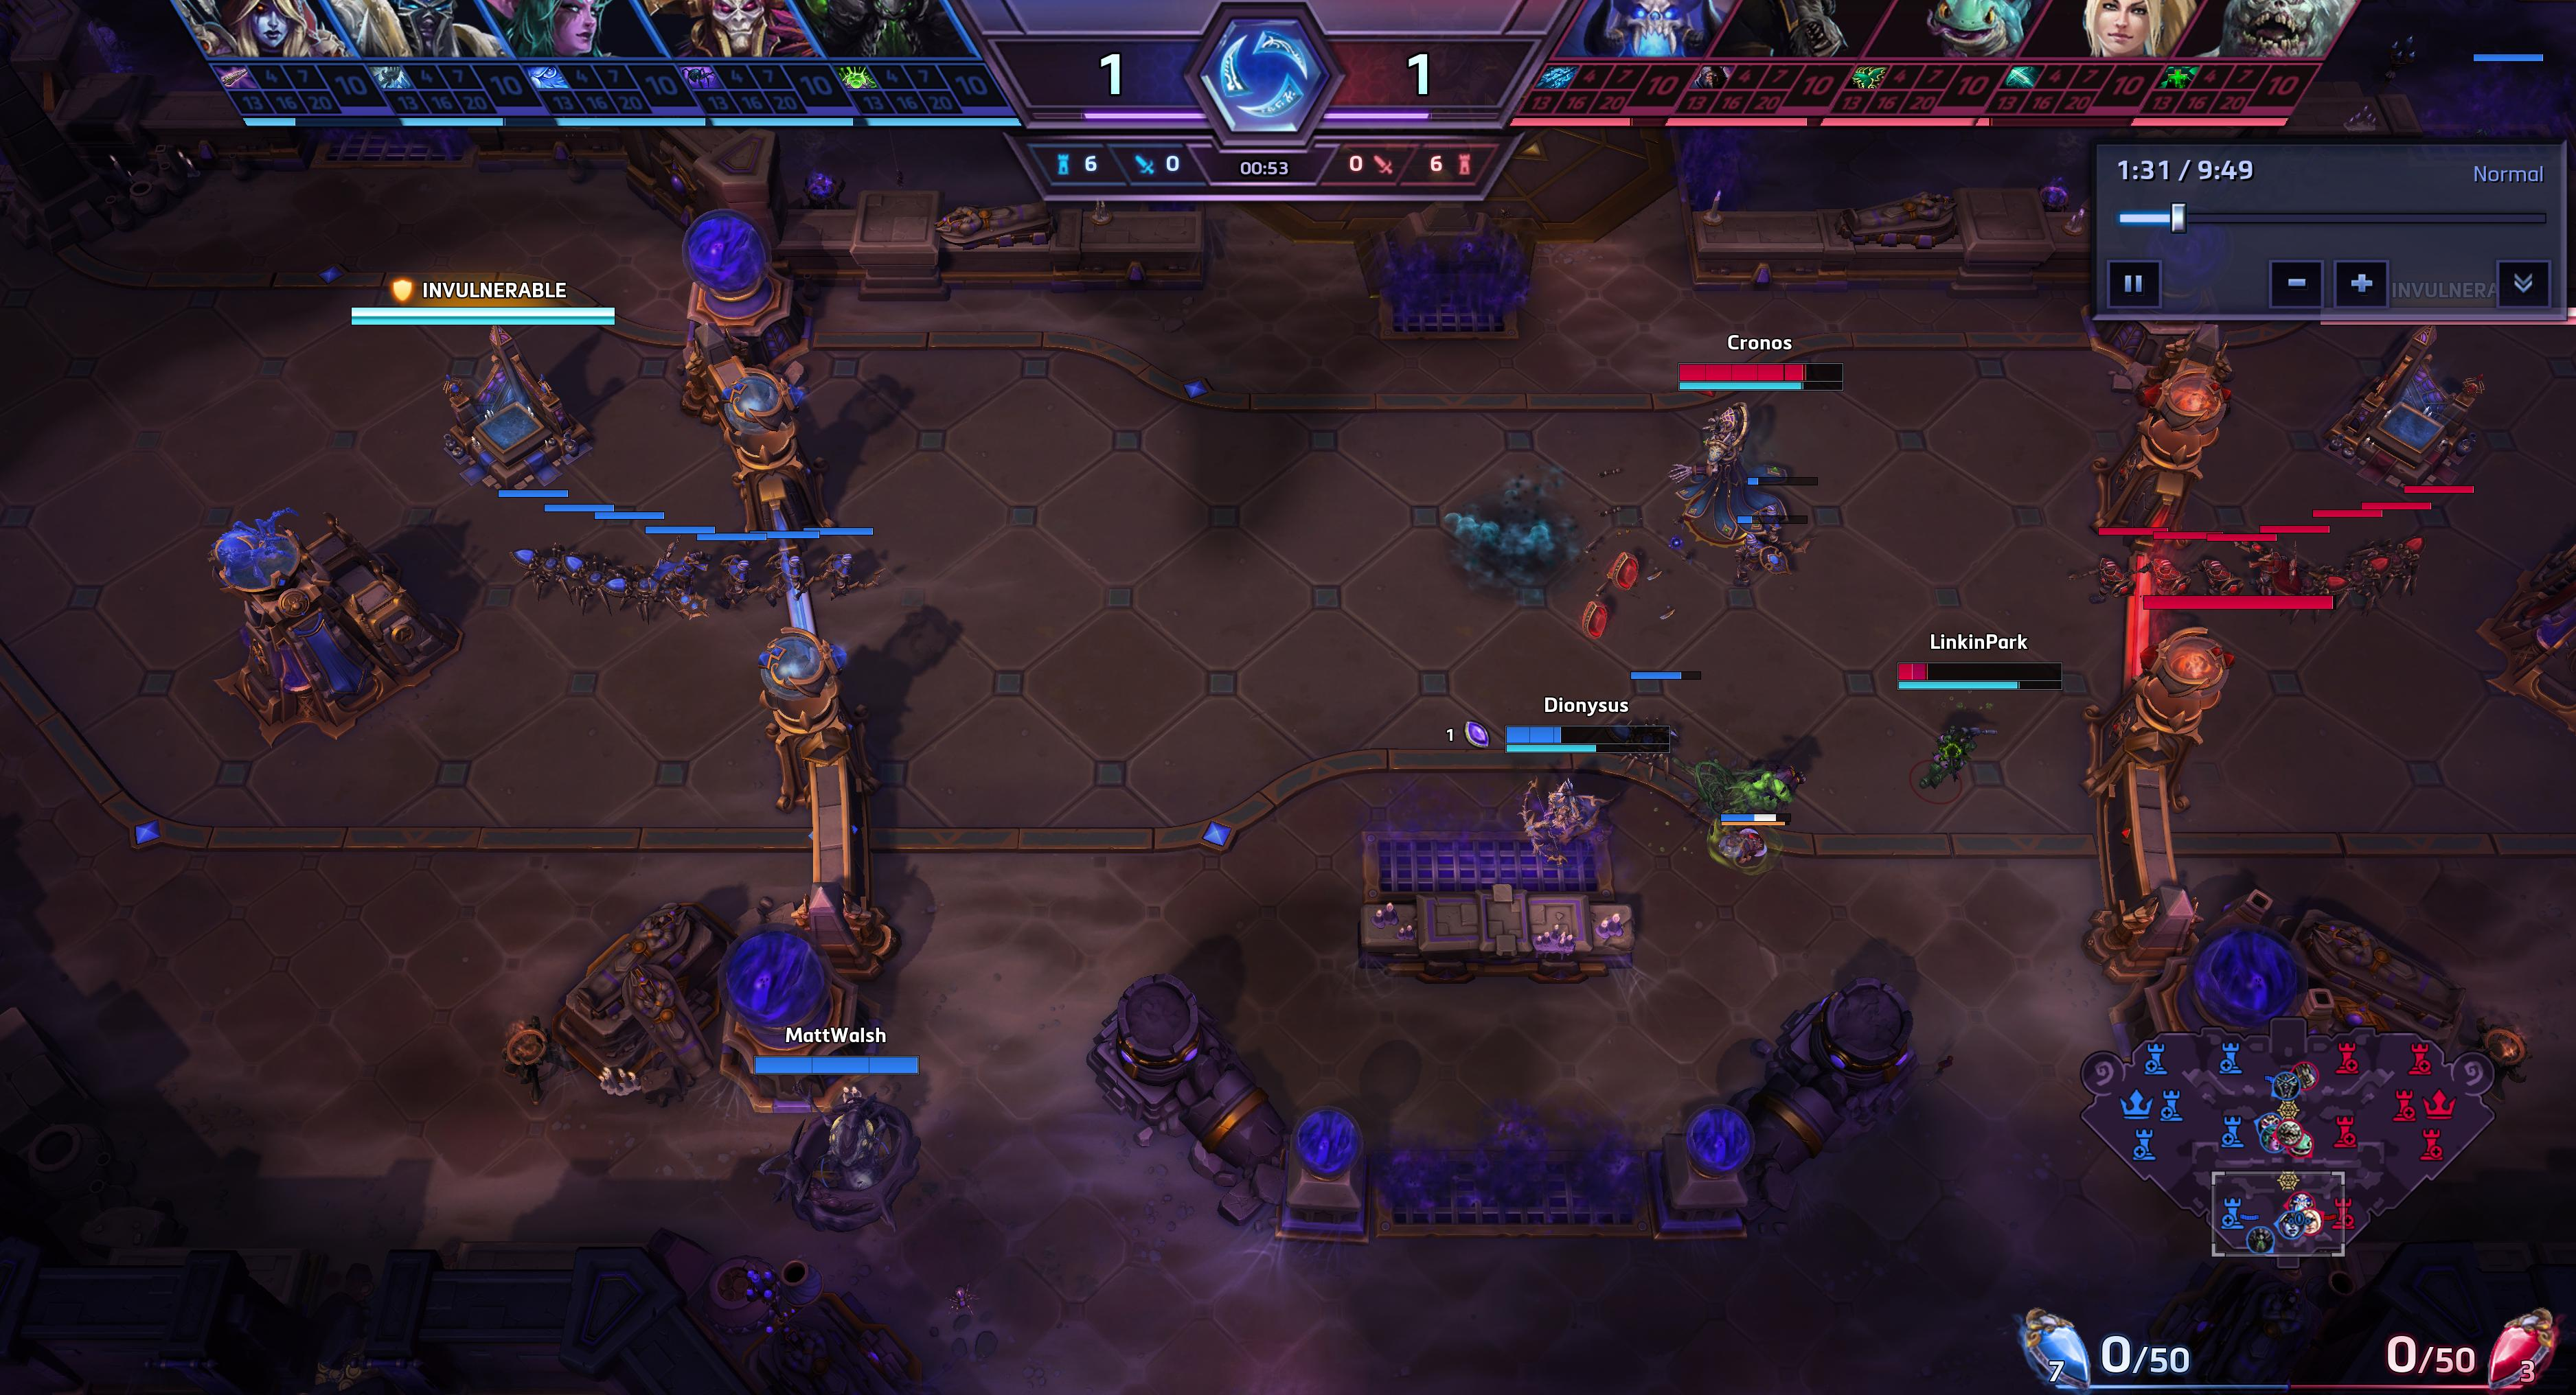blue player: (2266, 1070, 2303, 1102), (2245, 1225, 2277, 1259), (2275, 1212, 2309, 1241), (2257, 1124, 2288, 1151)
red player: (2283, 1129, 2318, 1164), (2290, 1059, 2324, 1092), (2285, 1189, 2321, 1214), (2301, 1210, 2326, 1236)
